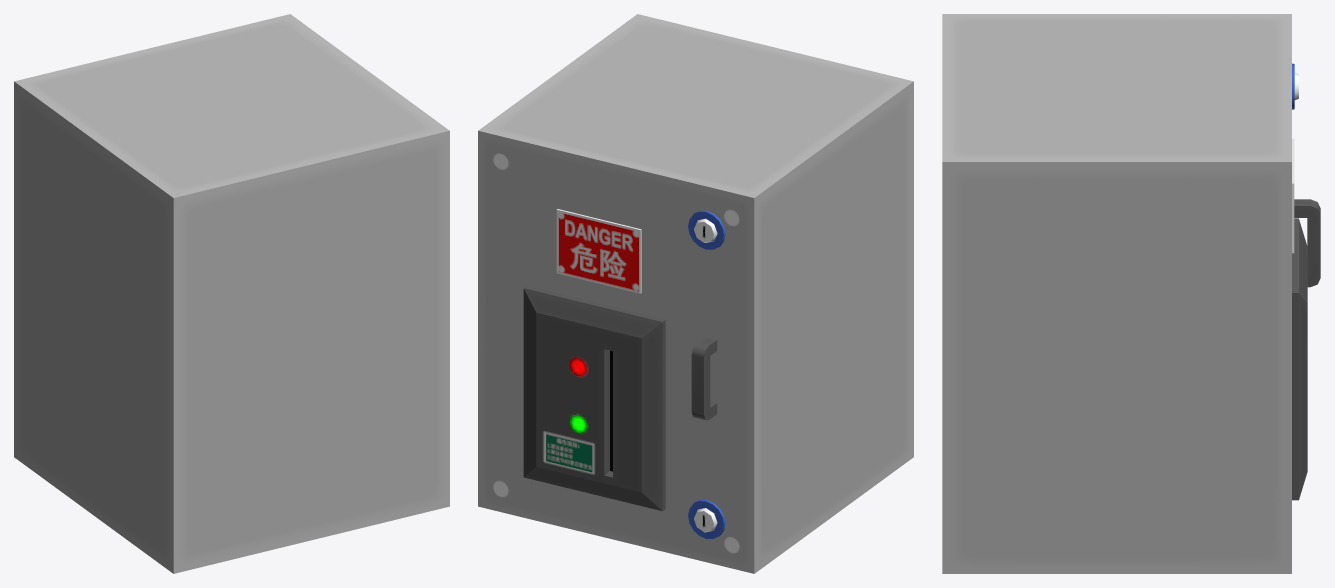
File: Pfb_ElectricControlBox__9.fbx
3 renders of one model, left to right at view 1: azimuth 30°, elevation 25°; view 2: azimuth 150°, elevation 25°; view 3: azimuth 270°, elevation 25°, orthographic. The views are drawn at different scales.
Parts seen in each view (by area): view 1: MAT_ElectricControlBox; view 2: MAT_ElectricControlBox; view 3: MAT_ElectricControlBox.
Boxes of the visible parts, x1,y1,x2,y2 form: MAT_ElectricControlBox: (14, 14, 449, 573); MAT_ElectricControlBox: (478, 14, 913, 573); MAT_ElectricControlBox: (942, 14, 1320, 573).
Bounding box in the file's own units: 1 × 1.3 × 1.08.
1 material, 1 textured.
